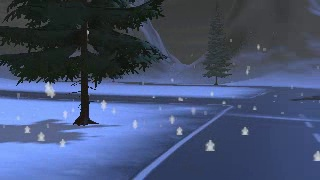Lane: (0, 85, 318, 178)
